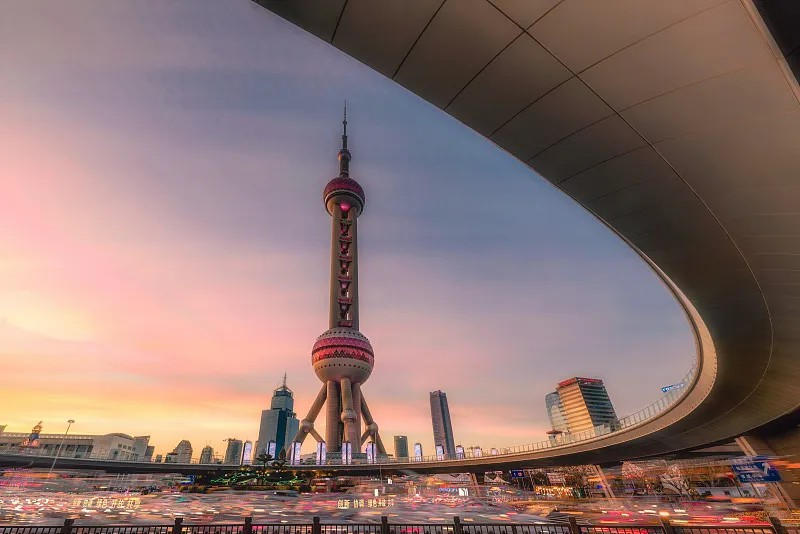Oriental: (287, 101, 387, 459)
